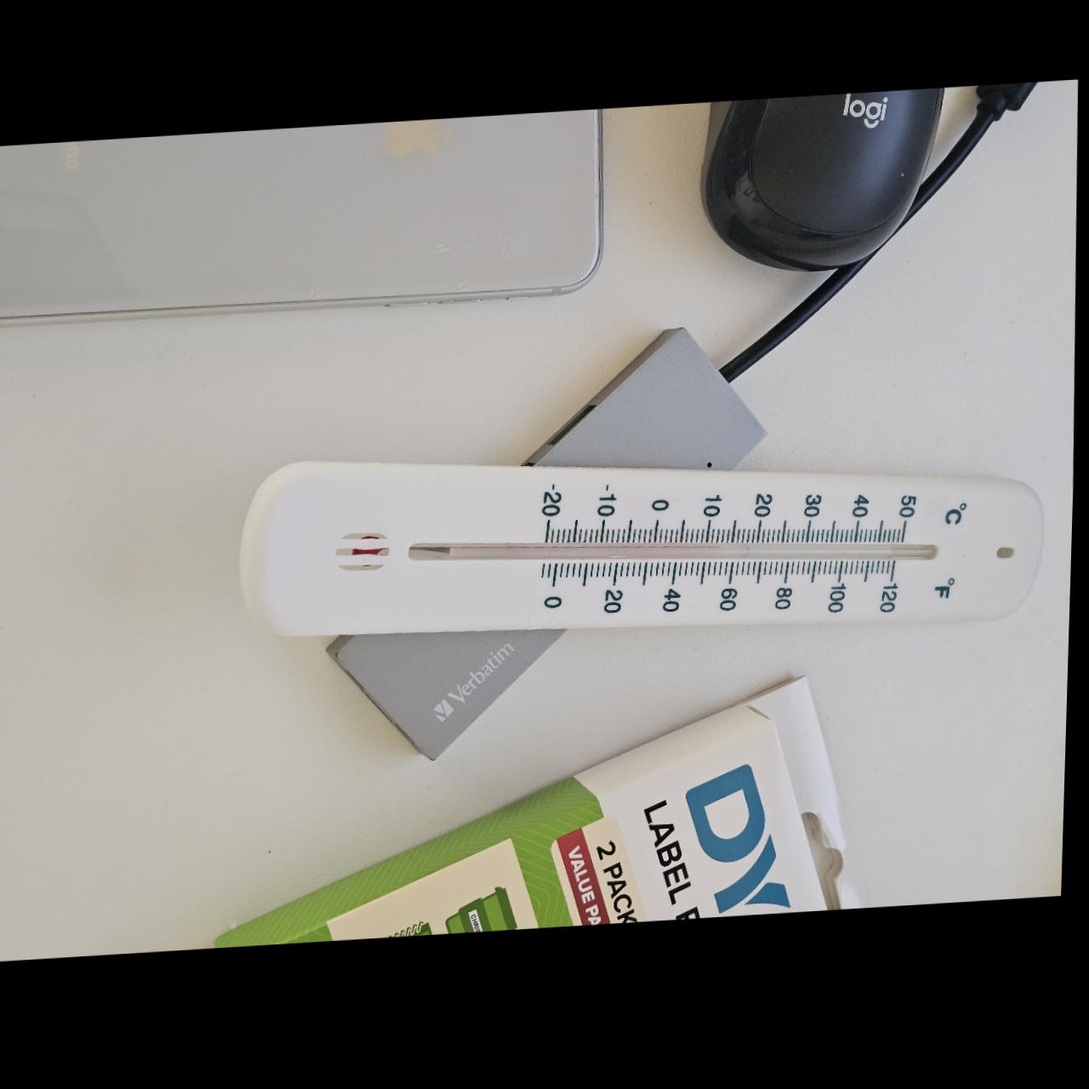thermometer: (233, 413, 1052, 671)
